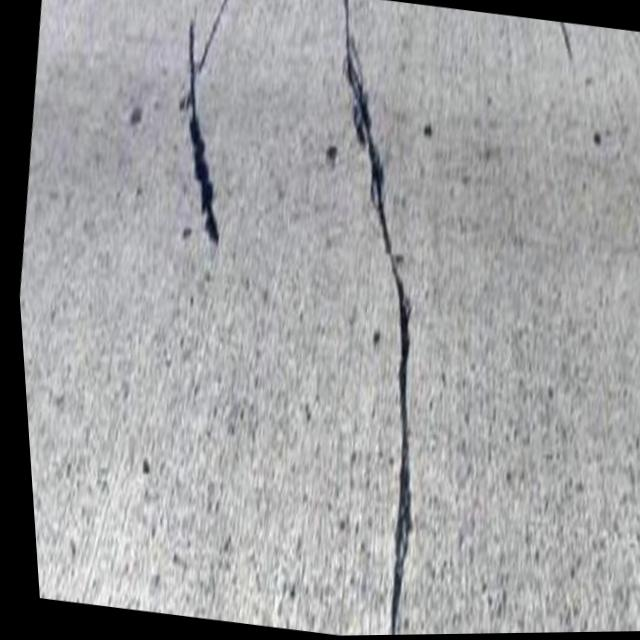Crack: (240, 0, 502, 637), (133, 0, 270, 251)
